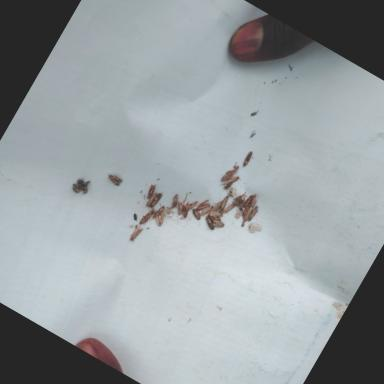pbw: (128, 222, 146, 244), (220, 164, 238, 185), (138, 207, 156, 228), (195, 196, 212, 214), (105, 172, 124, 188), (184, 196, 200, 214), (149, 191, 164, 210), (247, 204, 261, 224), (224, 172, 240, 189), (202, 216, 219, 232), (144, 183, 158, 201), (152, 204, 166, 222), (199, 203, 213, 220), (222, 201, 236, 218), (153, 211, 167, 227), (208, 207, 224, 221), (242, 150, 254, 168), (209, 198, 222, 214), (242, 193, 255, 209), (172, 202, 186, 216), (242, 206, 254, 222), (169, 192, 181, 208), (219, 195, 231, 210), (146, 192, 157, 208), (212, 218, 225, 230), (190, 209, 202, 220), (249, 194, 260, 206), (241, 206, 250, 218), (181, 208, 190, 218)
